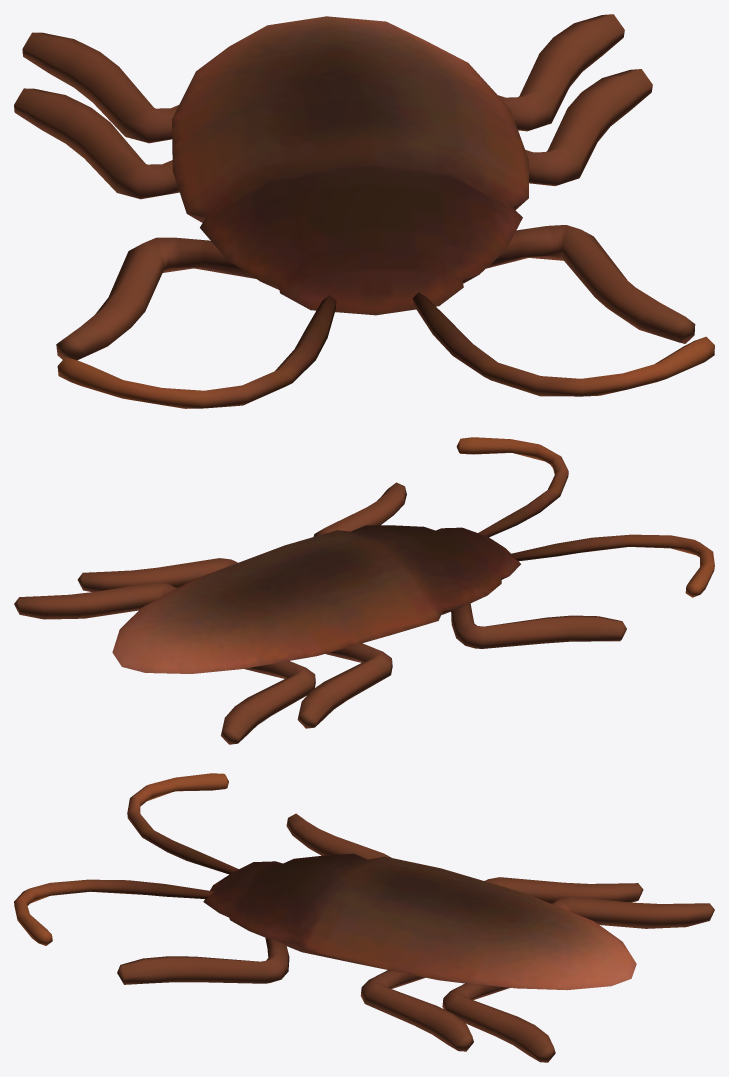
Rendered from FtrCockroachfake.glb.
3 renders of one model, top to bottom at view 1: azimuth 30°, elevation 25°; view 2: azimuth 150°, elevation 25°; view 3: azimuth 270°, elevation 25°, orthographic. The views are drawn at different scales.
Parts seen in each view (by area): view 1: body__mBody; view 2: body__mBody; view 3: body__mBody.
Boxes of the visible parts, x1=… form: body__mBody: x1=14, y1=14, x2=714, y2=408; body__mBody: x1=14, y1=437, x2=714, y2=744; body__mBody: x1=14, y1=773, x2=714, y2=1062.
Bounding box in the file's own units: 3.11 × 0.3825 × 3.6.
Materials: 1 (1 with a texture image).
